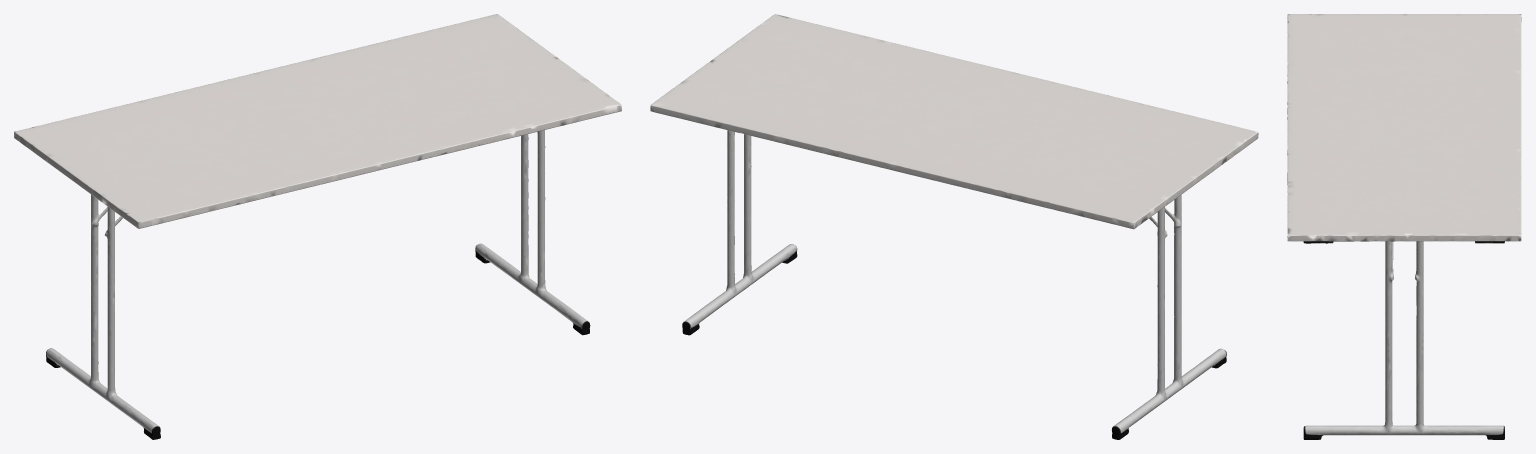
File: dalemans-tisch-210-low.glb
The picture shows the model from 3 angles, left to right: view 1: azimuth 30°, elevation 25°; view 2: azimuth 150°, elevation 25°; view 3: azimuth 270°, elevation 25°; orthographic projection. The views are drawn at different scales.
Parts seen in each view (by area): view 1: Mesh_0; view 2: Mesh_0; view 3: Mesh_0.
Part boxes in pixels (x1,y1,x2,y2): Mesh_0: (14,14,621,439); Mesh_0: (650,14,1258,439); Mesh_0: (1287,14,1521,439).
Bounding box in the file's own units: 1.9 × 0.8631 × 0.8478.
Materials: 1 (1 with a texture image).
